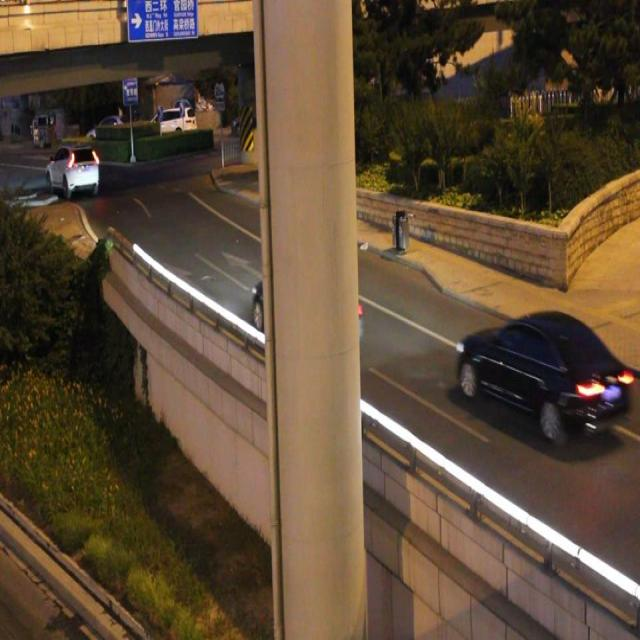car: (454, 304, 630, 441), (252, 252, 363, 352)
